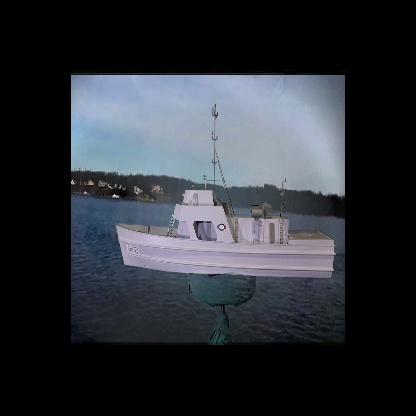YP689: (116, 101, 336, 281)
